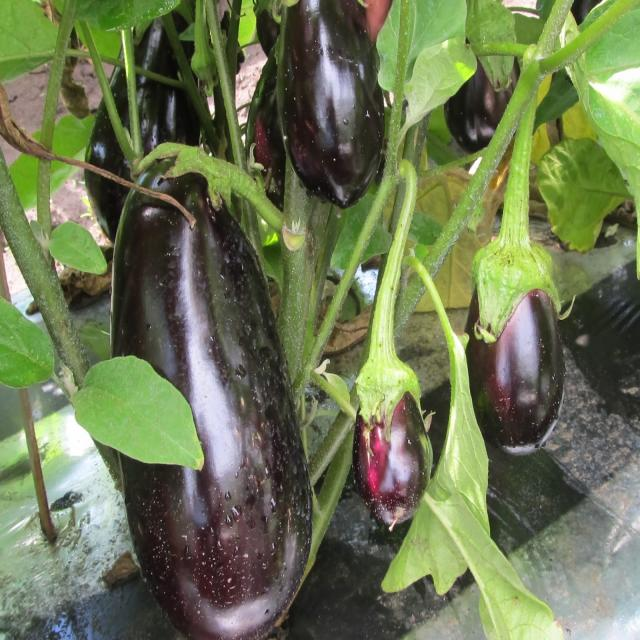eggplant: (113, 154, 312, 637), (273, 0, 384, 203), (466, 244, 569, 455), (349, 364, 432, 525)
